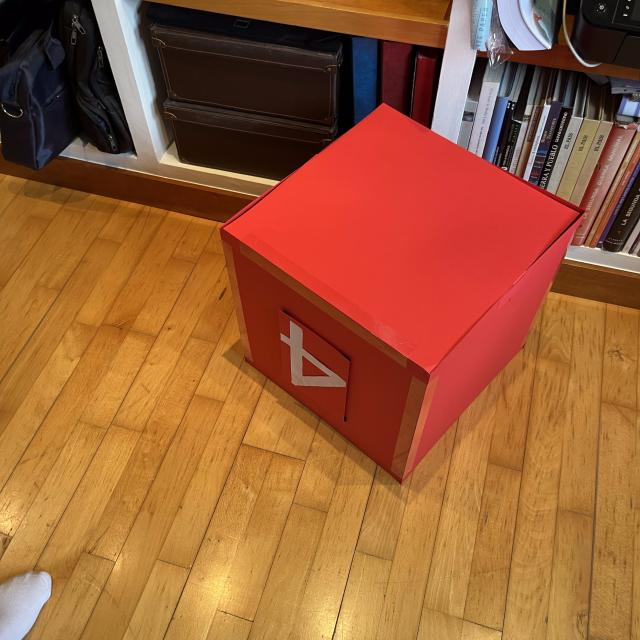box: (216, 100, 587, 484)
